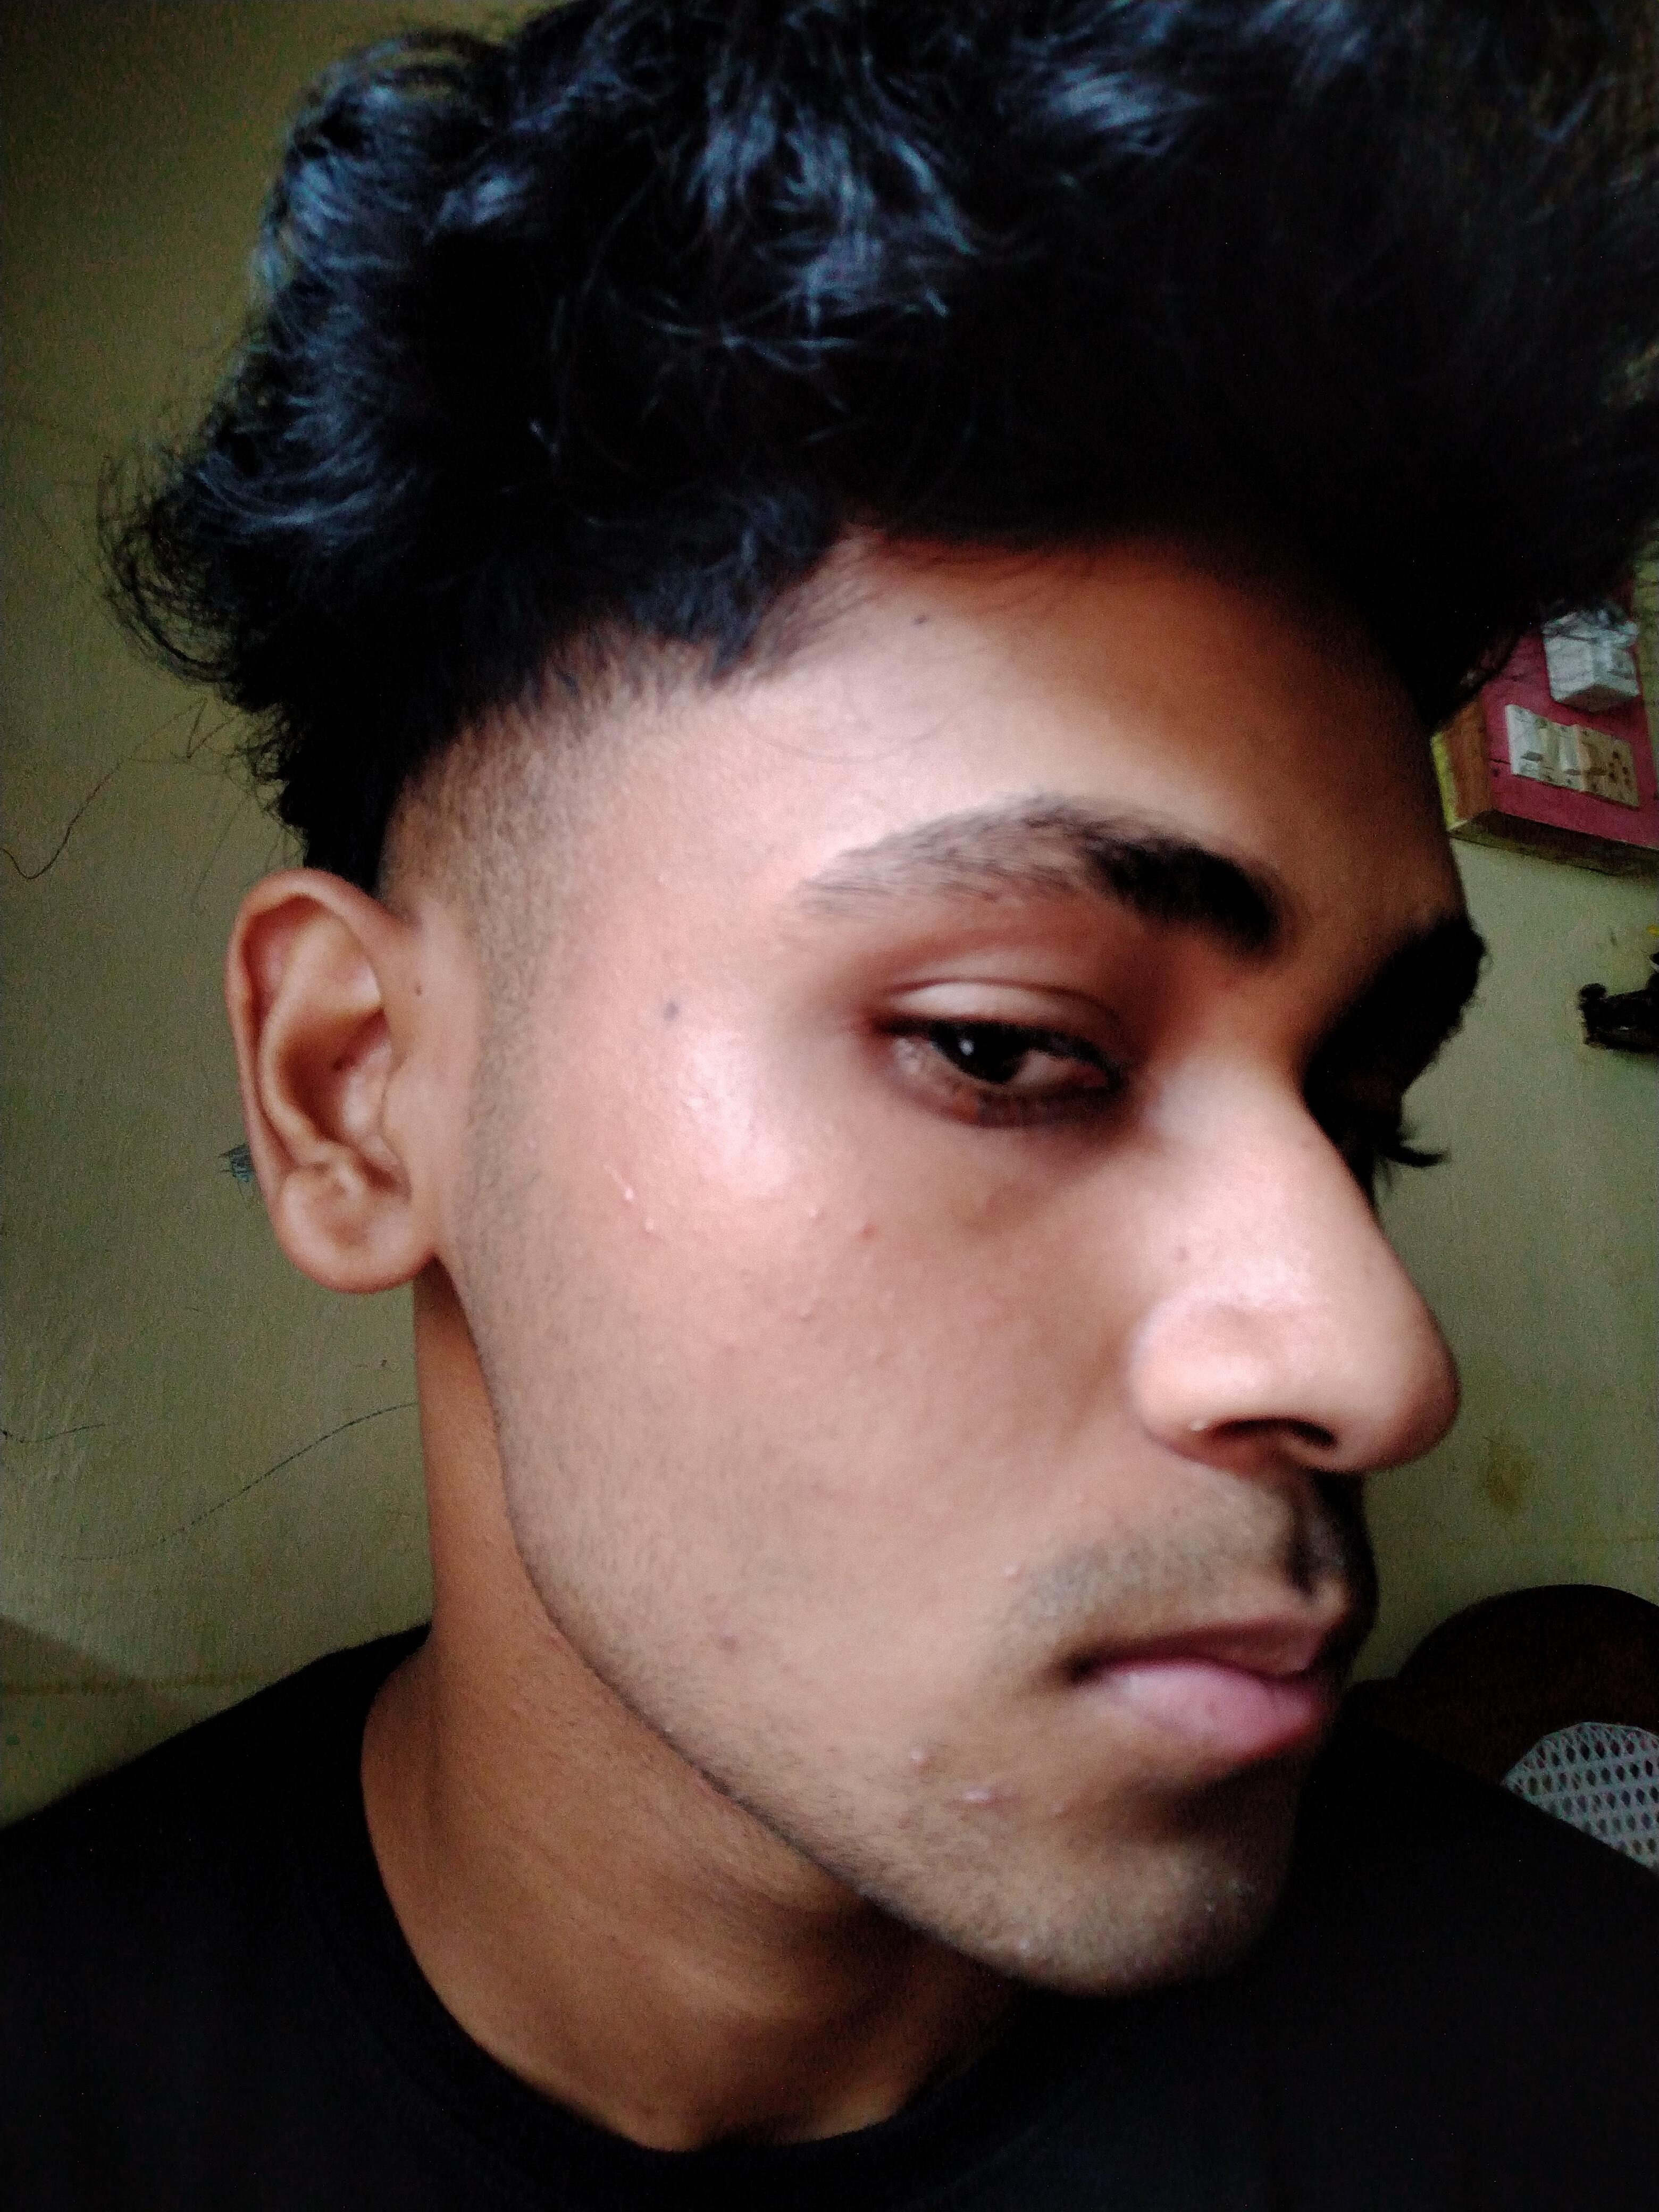Acne: (958, 1775, 1014, 1832), (603, 1181, 655, 1242), (789, 1296, 838, 1355), (721, 1254, 772, 1306), (711, 1329, 758, 1378), (1166, 1238, 1213, 1287), (1042, 1773, 1079, 1834), (993, 1545, 1039, 1594), (788, 1200, 838, 1244), (843, 1214, 897, 1254), (896, 1733, 943, 1773), (1065, 1475, 1103, 1517), (701, 1634, 748, 1665), (1007, 1925, 1051, 1956)
